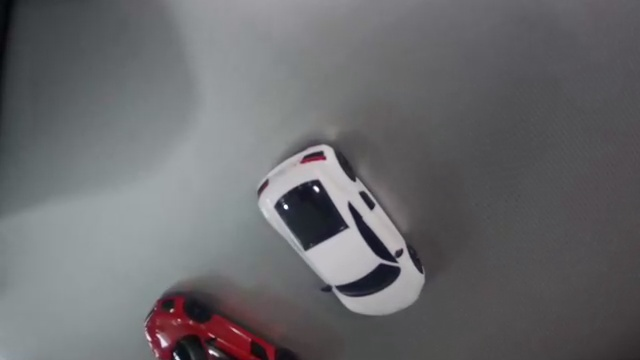car: (254, 142, 427, 316), (144, 293, 298, 360)
